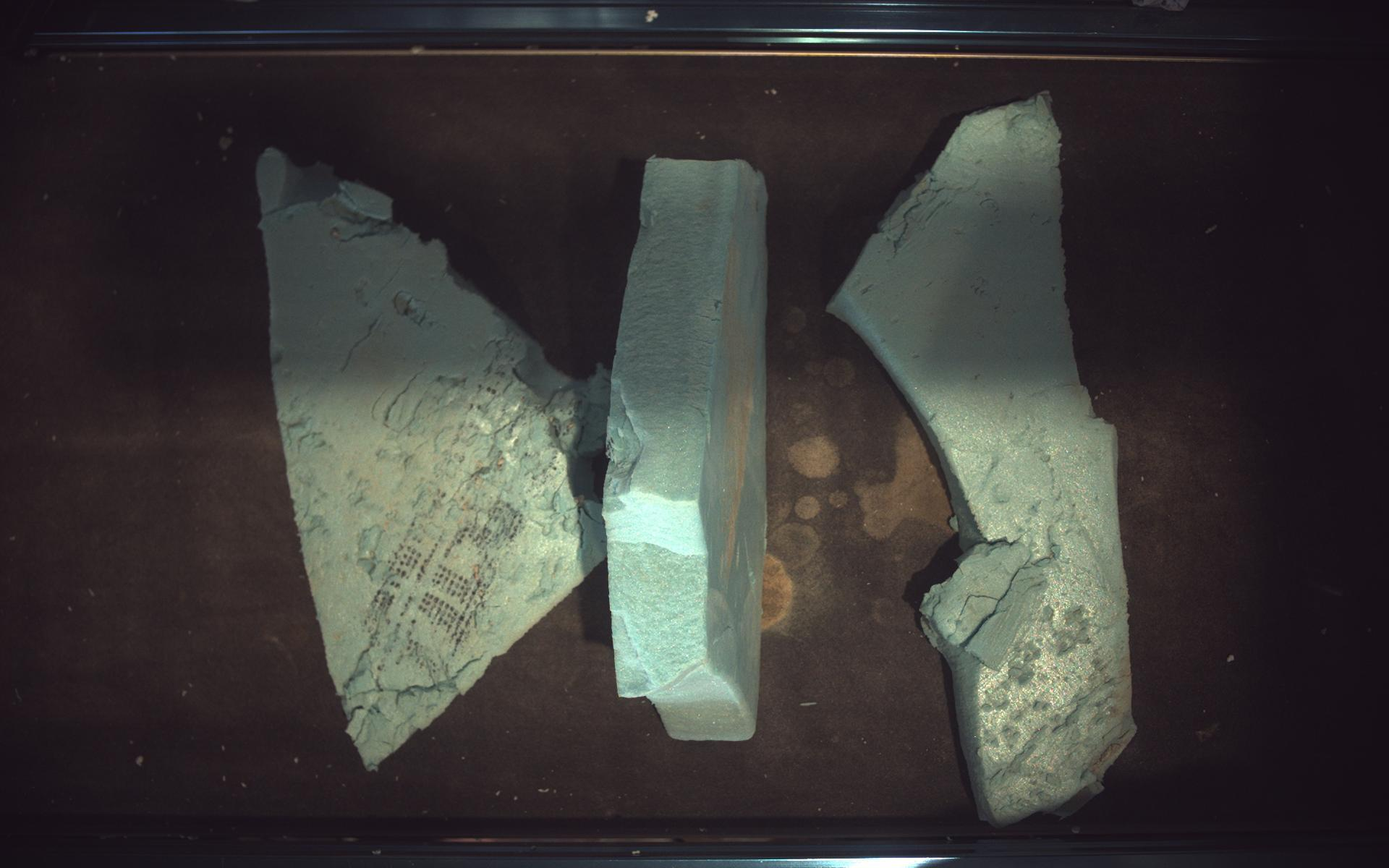foam: (830, 93, 1138, 827), (257, 148, 610, 770), (604, 158, 768, 742)
